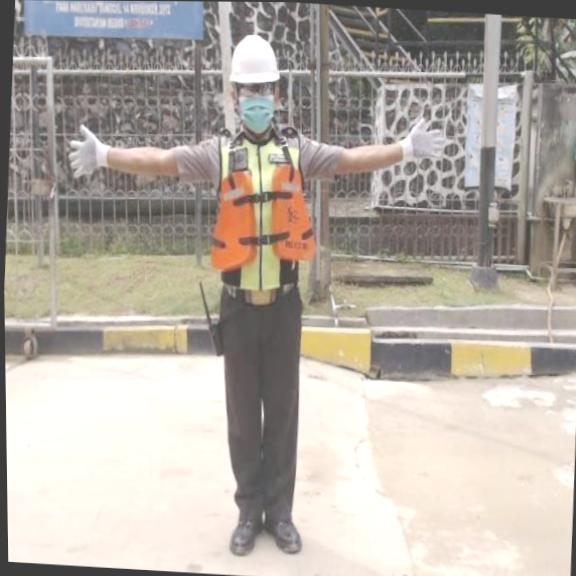safety_vest: (205, 158, 321, 278)
